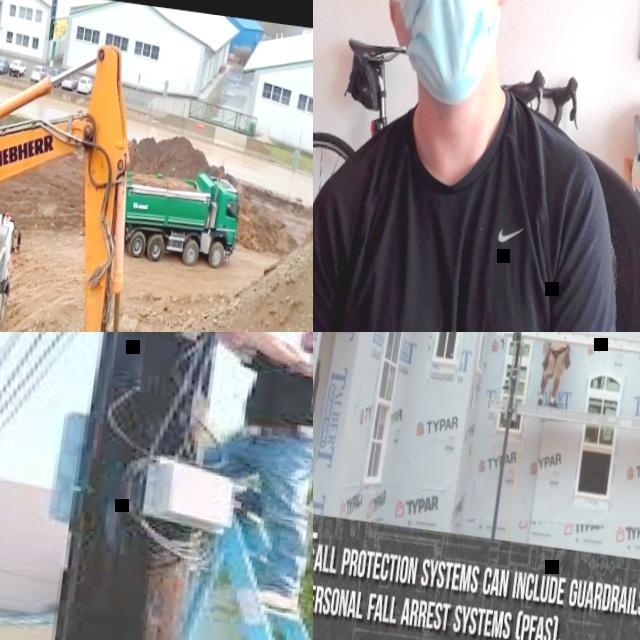Mask: (377, 0, 510, 111)
NO-Mask: (300, 332, 313, 350)
NO-Safety Vest: (323, 88, 576, 332), (244, 341, 313, 430)
Person: (313, 0, 640, 332), (160, 332, 313, 615), (537, 332, 597, 410)
Safety Cone: (196, 121, 204, 126)
machinery: (0, 0, 161, 332), (113, 159, 243, 272), (0, 201, 24, 332)
vehicle: (7, 57, 26, 78), (45, 65, 62, 88), (30, 63, 48, 83), (76, 73, 93, 94), (61, 71, 78, 91), (0, 54, 10, 74)
